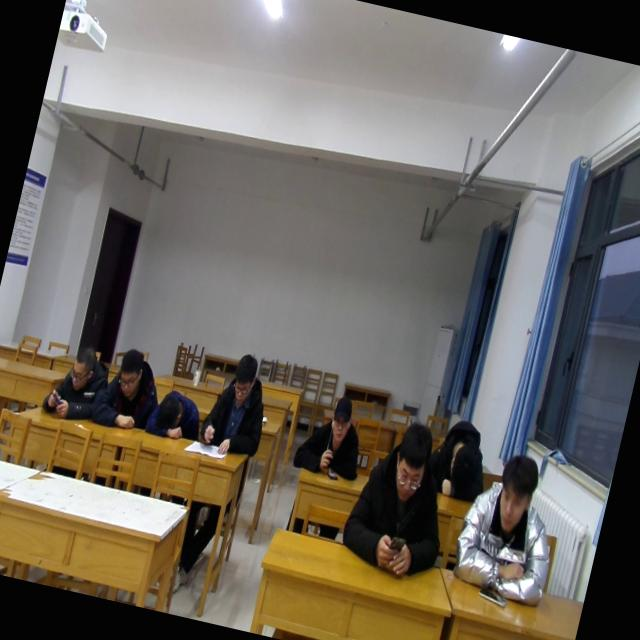bow: (444, 441, 576, 615), (87, 341, 171, 434), (422, 412, 499, 510), (38, 339, 116, 426), (144, 384, 208, 446)
down: (381, 411, 438, 507), (488, 448, 544, 538), (436, 436, 488, 504), (110, 344, 150, 402), (223, 347, 260, 408), (64, 340, 98, 393)
lookup: (324, 390, 358, 448)
sit: (337, 412, 466, 586), (194, 345, 278, 465), (288, 388, 372, 486)
